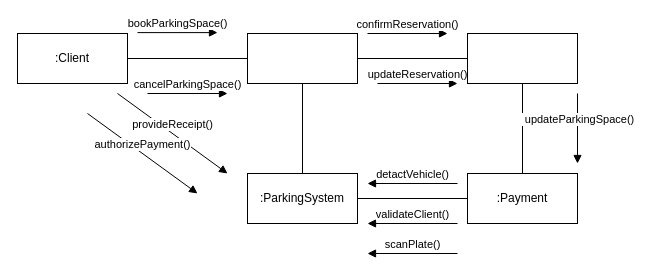
Some shapes in this 651 by 280 pixel diagram are drawn without their labels. The centre of each missing label's shape, as x and y in pixels:
":ParkingSpace" goes at point 522,58.
":Reservation" goes at point 302,58.
